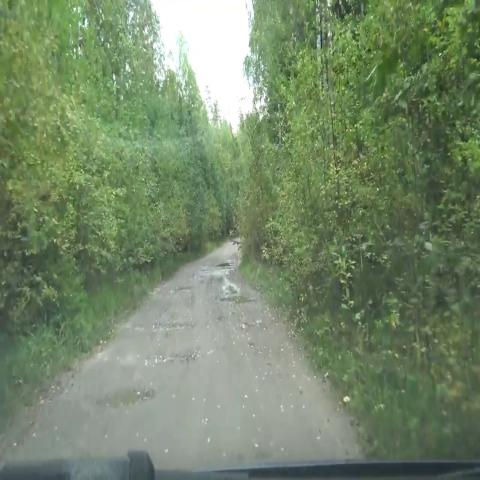pothole: (96, 366, 161, 424), (152, 335, 206, 375), (226, 313, 272, 350), (154, 308, 198, 340), (214, 283, 258, 315), (212, 252, 241, 277), (172, 282, 198, 302)
